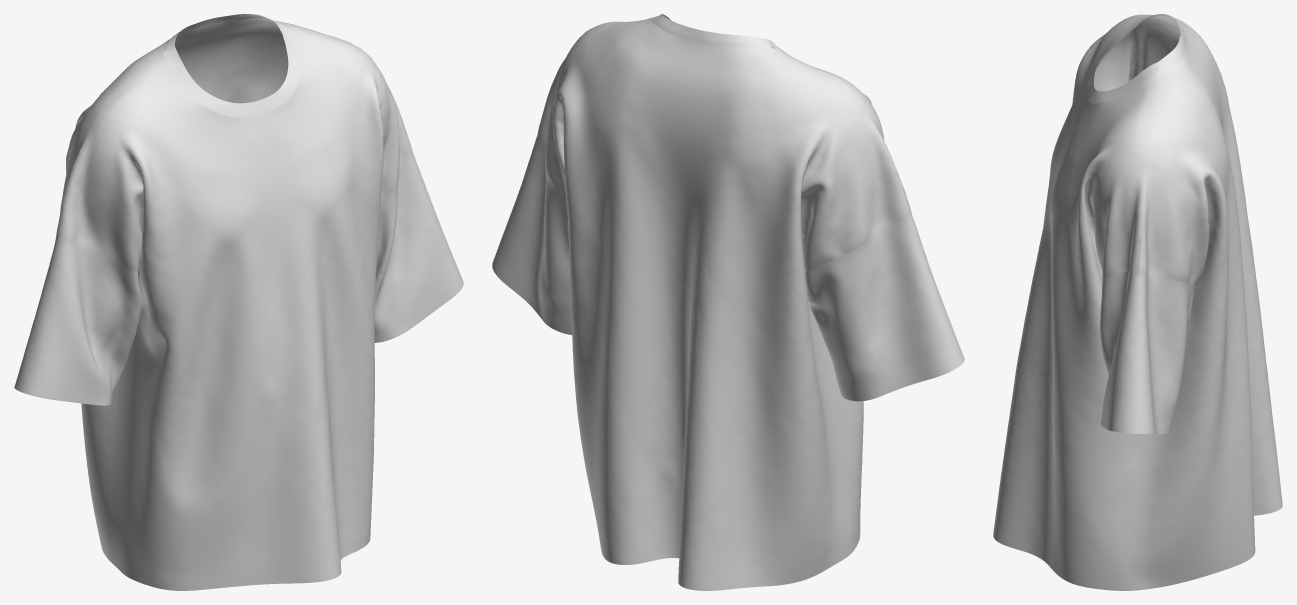
Rendered from virtualShirt.glb.
The picture shows the model from 3 angles, left to right: view 1: azimuth 30°, elevation 25°; view 2: azimuth 150°, elevation 25°; view 3: azimuth 270°, elevation 25°; orthographic projection. The views are drawn at different scales.
Parts seen in each view (by area): view 1: oversizedtshirt; view 2: oversizedtshirt; view 3: oversizedtshirt.
Part boxes in pixels (x1,y1,x2,y2): oversizedtshirt: (14,14,463,590); oversizedtshirt: (492,14,964,590); oversizedtshirt: (993,14,1282,590).
Size of the model in its own units: 7.08 by 7.69 by 4.01.
Materials: 1 (1 with a texture image).
